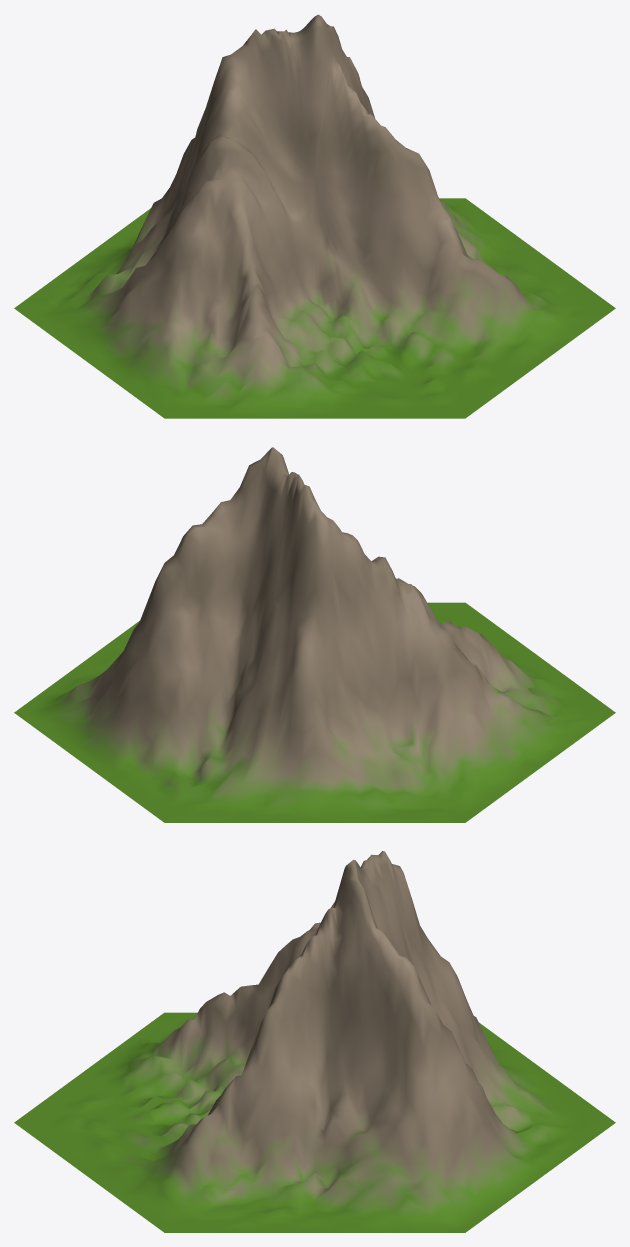
Rendered from SM_Terreno_Montana_Revision.fbx.
3 renders of one model, top to bottom at view 1: azimuth 30°, elevation 25°; view 2: azimuth 150°, elevation 25°; view 3: azimuth 270°, elevation 25°, orthographic.
Visible parts, largest first — view 1: SM_Terreno_Montana_Revision; view 2: SM_Terreno_Montana_Revision; view 3: SM_Terreno_Montana_Revision.
Boxes of the visible parts, x1,y1,x2,y2 form: SM_Terreno_Montana_Revision: [14, 14, 615, 418]; SM_Terreno_Montana_Revision: [14, 447, 615, 822]; SM_Terreno_Montana_Revision: [14, 851, 615, 1232].
Bounding box in the file's own units: 173 × 101 × 200.
